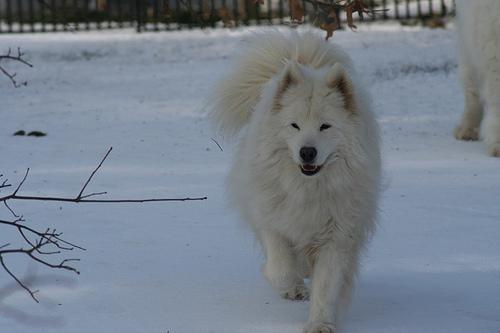dog-samoyed: (272, 58, 355, 176)
